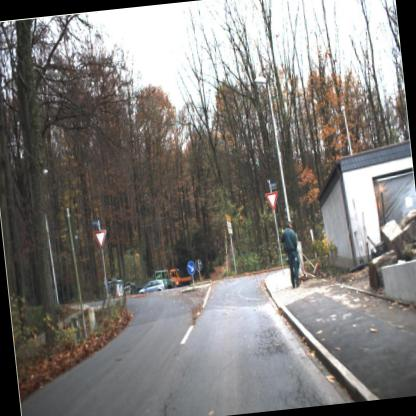mandatory: (182, 254, 198, 278)
other: (88, 223, 111, 255), (265, 188, 281, 212)
